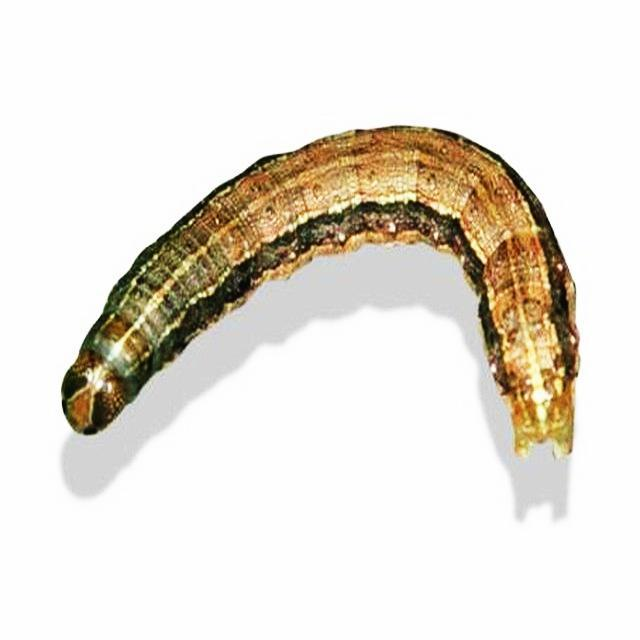worm: (61, 124, 582, 461)
